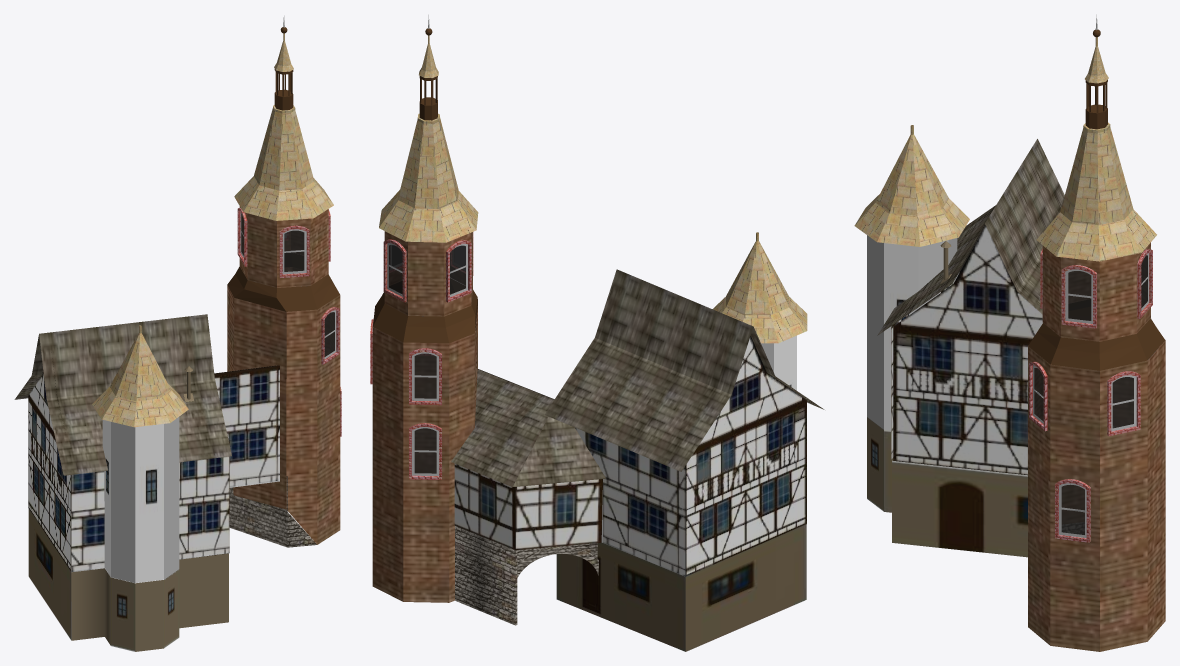
Rendered from fort.FBX.
3 views of the same model, side by side, from view 1: azimuth 30°, elevation 25°; view 2: azimuth 150°, elevation 25°; view 3: azimuth 270°, elevation 25° (orthographic). The views are drawn at different scales.
Visible parts, largest first — view 1: barak, cihlova_zed, strecha_hneda, strecha_svetla, bila_stena, vezicka, podstena, Okna, skla, okenice; view 2: barak, strecha_hneda, cihlova_zed, strecha_svetla, podstena, vezicka, skla, Okna, okenice; view 3: cihlova_zed, barak, strecha_svetla, strecha_hneda, vezicka, bila_stena, skla, Okna, okenice.
Boxes of the visible parts, x1,y1,x2,y2 form: barak: [28, 365, 279, 651]; cihlova_zed: [227, 206, 340, 544]; strecha_hneda: [14, 314, 279, 475]; strecha_svetla: [92, 33, 333, 427]; bila_stena: [111, 417, 179, 582]; vezicka: [227, 15, 339, 311]; podstena: [229, 476, 316, 547]; Okna: [237, 208, 341, 436]; skla: [241, 213, 334, 356]; okenice: [240, 212, 336, 359]; barak: [454, 274, 806, 651]; strecha_hneda: [451, 269, 824, 486]; cihlova_zed: [372, 231, 477, 602]; strecha_svetla: [379, 35, 807, 343]; podstena: [455, 526, 598, 625]; vezicka: [373, 15, 477, 343]; skla: [389, 245, 465, 473]; Okna: [370, 232, 473, 479]; okenice: [387, 243, 467, 475]; cihlova_zed: [1028, 242, 1165, 651]; barak: [867, 210, 1042, 557]; strecha_svetla: [854, 37, 1156, 261]; strecha_hneda: [877, 139, 1114, 427]; vezicka: [1028, 14, 1164, 370]; bila_stena: [867, 235, 957, 429]; skla: [1034, 255, 1157, 534]; Okna: [1029, 249, 1152, 542]; okenice: [1033, 253, 1148, 537].
Bounding box in the file's own units: 116 × 168 × 77.55.
11 materials, 8 textured.
